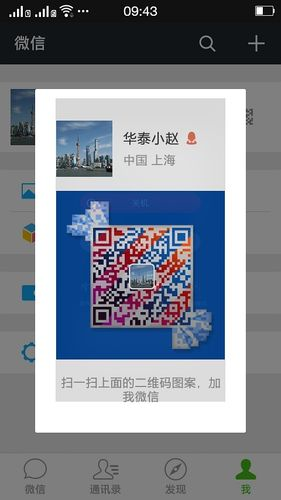QRCode: (89, 225, 195, 326)
